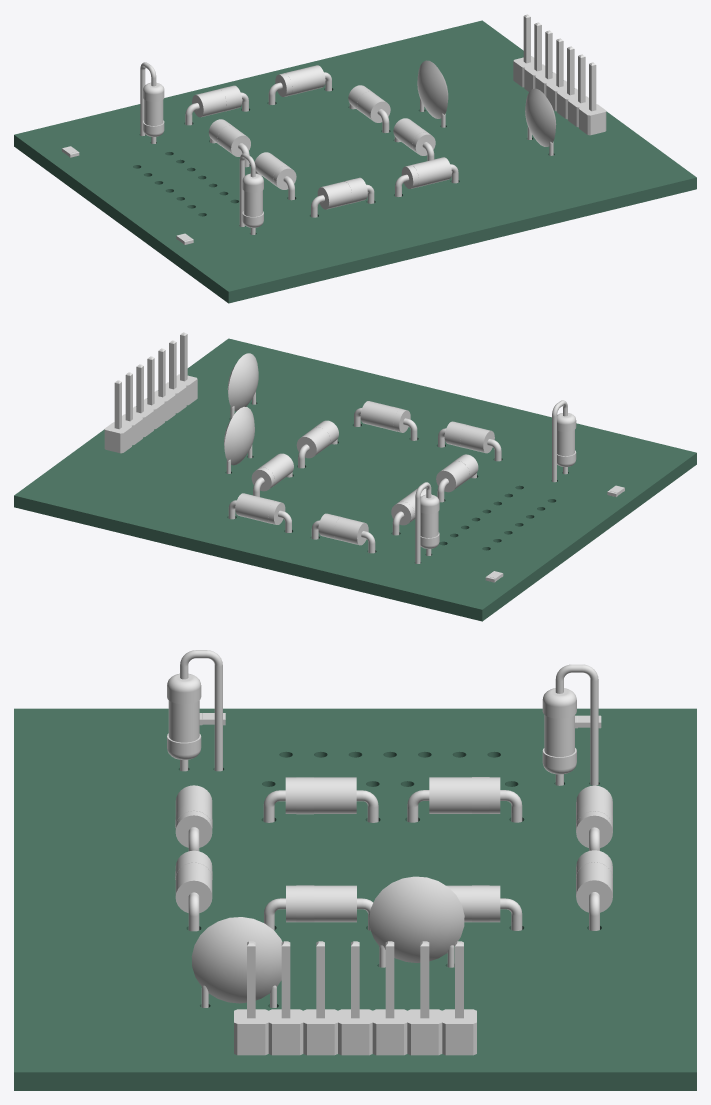
Rendered from modulo_puente_h-3D.glb.
The picture shows the model from 3 angles, top to bottom: view 1: azimuth 30°, elevation 25°; view 2: azimuth 150°, elevation 25°; view 3: azimuth 270°, elevation 25°; orthographic projection. The views are drawn at different scales.
Visible parts, largest first — view 1: =>[0:1:1:7], J1, M1, M2, C2, C1, D8, D3, D4, D7, D5, D1 (+2 smaller); view 2: =>[0:1:1:7], J1, M2, M1, C2, D8, D3, C1, D7, D4, D2, D1 (+2 smaller); view 3: =>[0:1:1:7], J1, C2, C1, M1, M2, D1, D6, D2, D4, D7, D3 (+2 smaller).
Boxes of the visible parts, left/top/right/bottom form: =>[0:1:1:7]: left=14, top=20, right=696, bottom=303; J1: left=513, top=14, right=606, bottom=135; M1: left=239, top=153, right=263, bottom=234; M2: left=140, top=62, right=164, bottom=143; C2: left=417, top=60, right=448, bottom=127; C1: left=525, top=88, right=556, bottom=155; D8: left=185, top=85, right=248, bottom=125; D3: left=311, top=177, right=374, bottom=217; D4: left=395, top=157, right=458, bottom=196; D7: left=268, top=65, right=331, bottom=104; D5: left=348, top=85, right=390, bottom=132; D1: left=254, top=152, right=296, bottom=200; =>[0:1:1:7]: left=14, top=338, right=696, bottom=621; J1: left=104, top=332, right=197, bottom=453; M2: left=415, top=482, right=439, bottom=563; M1: left=552, top=400, right=576, bottom=482; C2: left=224, top=406, right=254, bottom=473; D8: left=311, top=513, right=375, bottom=553; D3: left=438, top=421, right=501, bottom=461; C1: left=227, top=353, right=258, bottom=419; D7: left=228, top=493, right=291, bottom=532; D4: left=354, top=401, right=417, bottom=440; D2: left=296, top=420, right=338, bottom=468; D1: left=436, top=454, right=478, bottom=502; =>[0:1:1:7]: left=14, top=708, right=696, bottom=1090; J1: left=234, top=941, right=476, bottom=1055; C2: left=369, top=876, right=464, bottom=967; C1: left=191, top=917, right=282, bottom=1007; M1: left=167, top=650, right=222, bottom=771; M2: left=542, top=664, right=598, bottom=785; D1: left=263, top=777, right=378, bottom=822; D6: left=407, top=777, right=522, bottom=822; D2: left=264, top=885, right=373, bottom=930; D4: left=175, top=850, right=212, bottom=931; D7: left=576, top=850, right=612, bottom=930; D3: left=175, top=785, right=212, bottom=851.
Size of the model in its own units: 0.063 by 0.0125 by 0.05.
